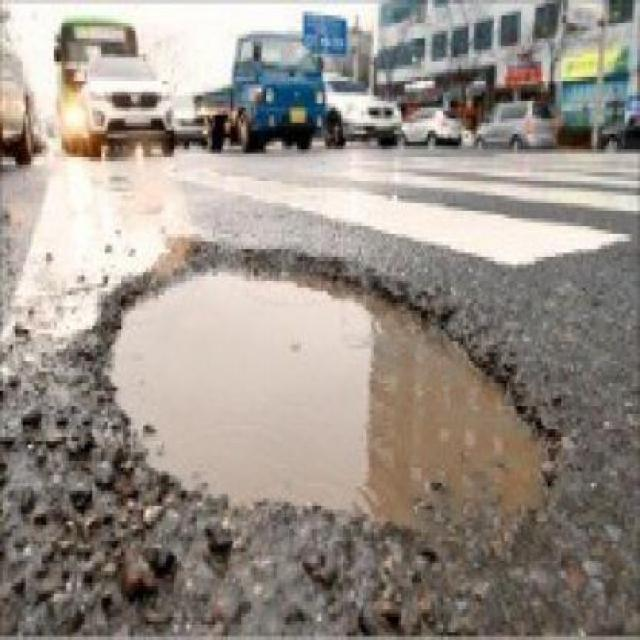Pothole: (82, 234, 561, 552)
